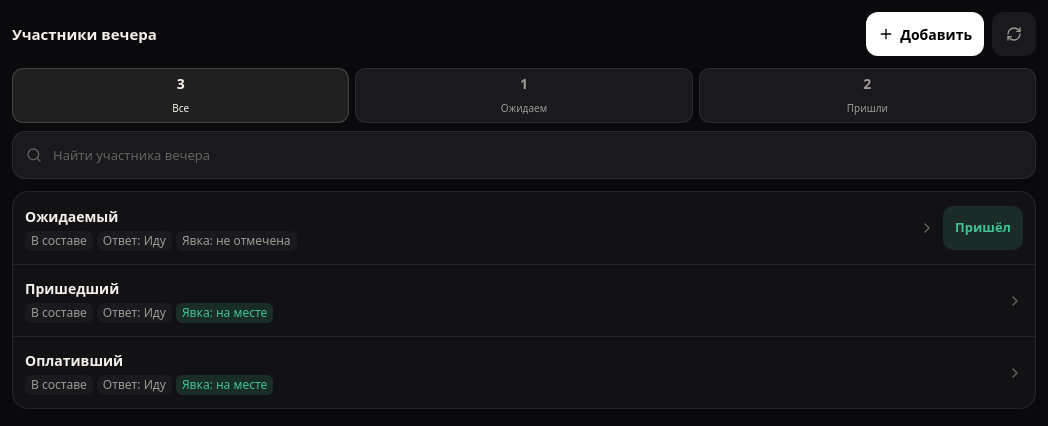
Test: Mounted evening lists › searches across roster filters while preserving the confirmed-only scope
Expected: the text "Ожидаемый" is shown, [25,206,118,226]
Click the button "1 Ожидаем" at (524, 96), box [355,68,693,123]
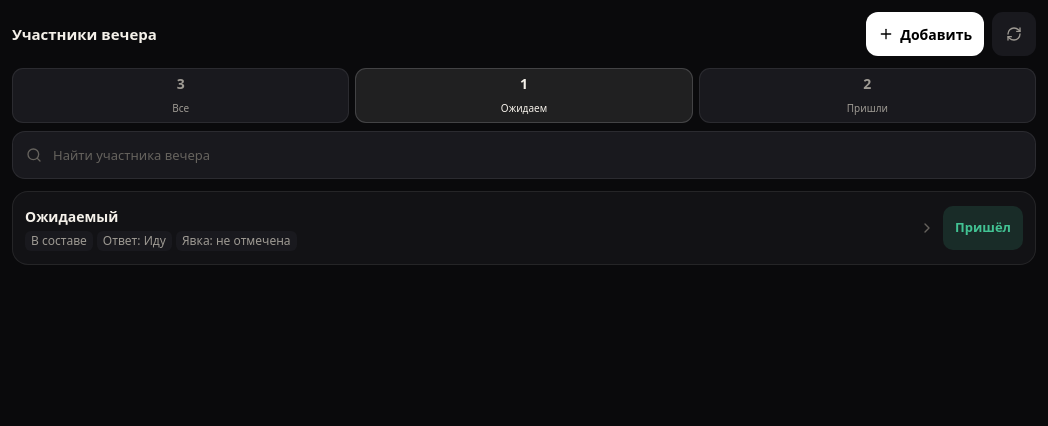
Expected: the button "Оплативший" is gone
Type " ОПЛАТИВШИЙ " into the field at (524, 155), box [12,131,1036,179]
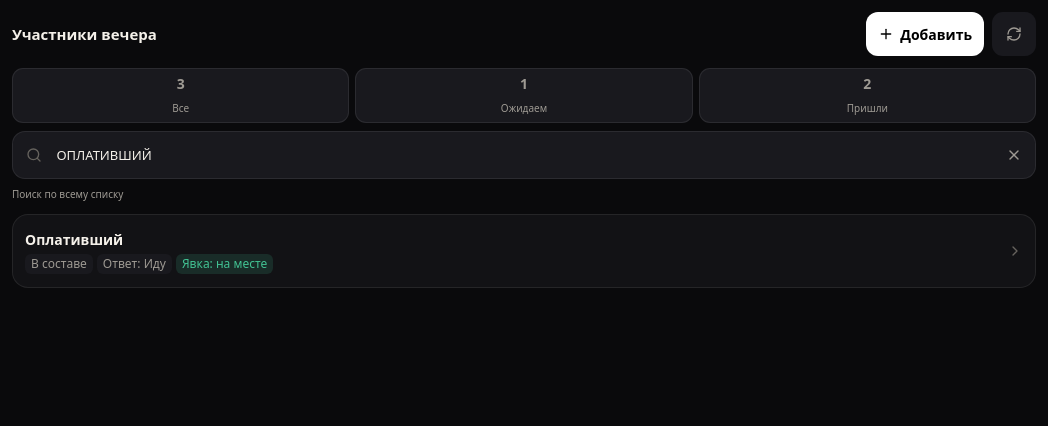
Expected: the text "Оплативший" is shown, [25,230,123,248]
Click the button named "Очистить поиск" at (1014, 155), box [992,133,1036,177]
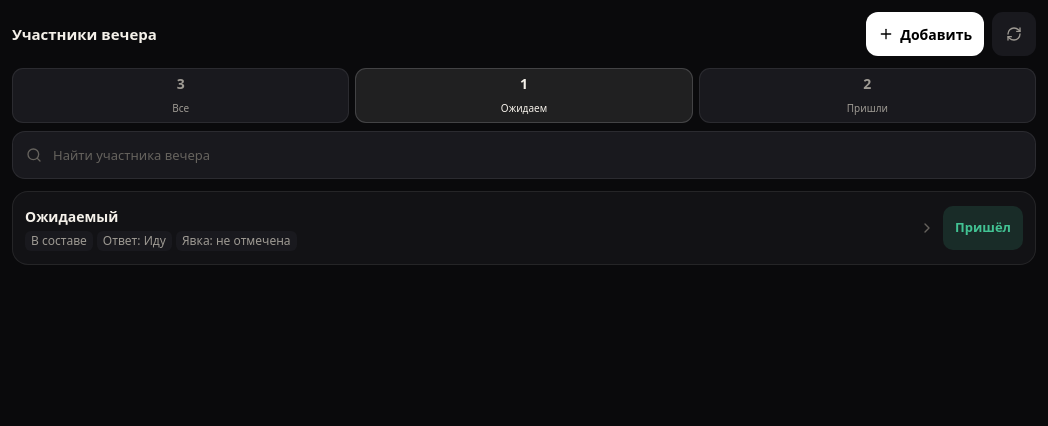
Expected: the text "Ожидаемый" is shown, [25,206,118,226]
Expected: the button "Оплативший" is gone
Type "Думающий" into the field at (524, 155), box [12,131,1036,179]
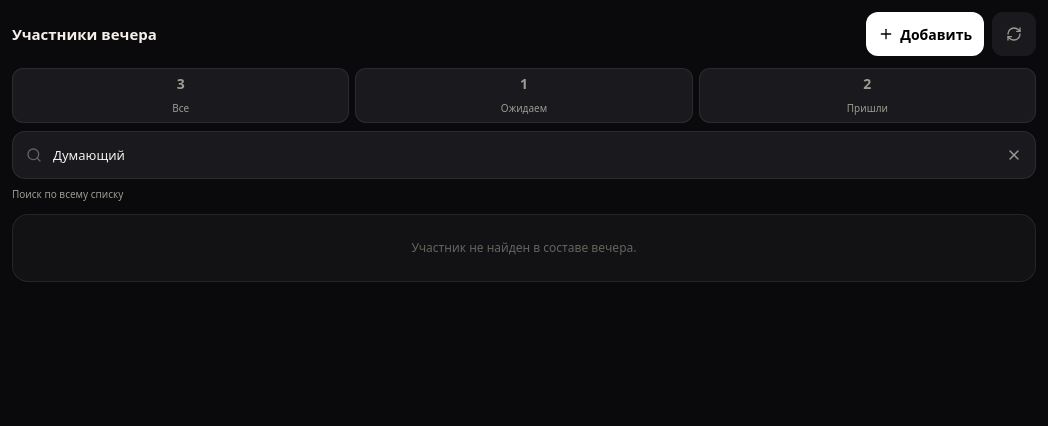
Expected: the text "Участник не найден в составе вечера." is shown, [412,239,636,256]
